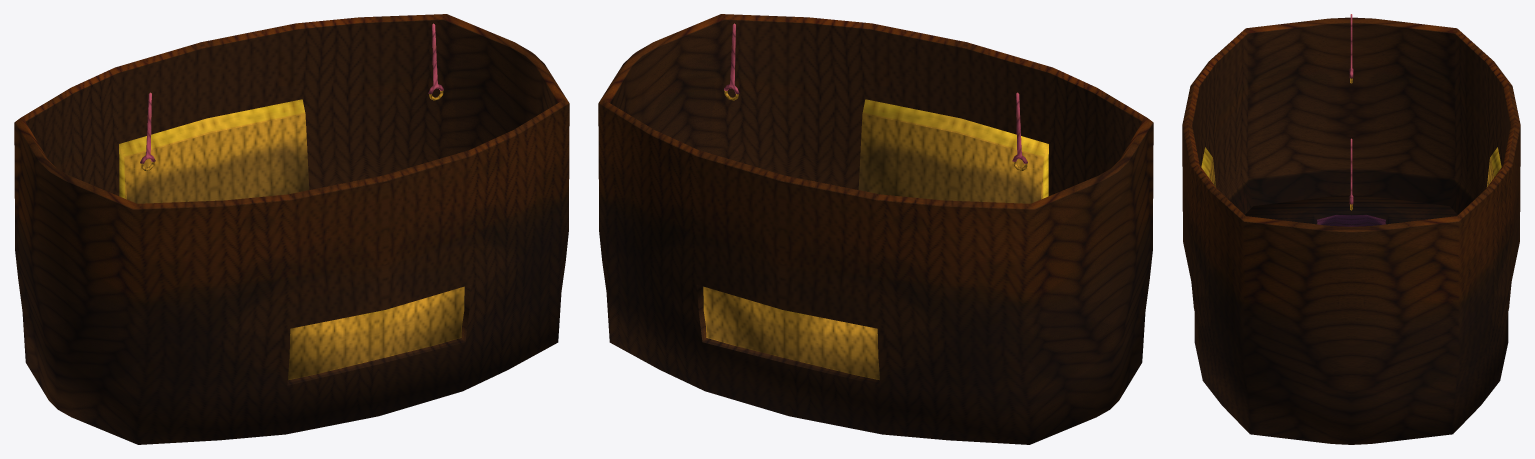
The model's file is NewBossroom_With_Collission.fbx.
3 renders of one model, left to right at view 1: azimuth 30°, elevation 25°; view 2: azimuth 150°, elevation 25°; view 3: azimuth 270°, elevation 25°, orthographic. The views are drawn at different scales.
Parts seen in each view (by area): view 1: Walls, Wall1, Wall2; view 2: Walls, Wall2, Wall1; view 3: Walls, Floor.
Part boxes in pixels (bbox=[...]): Walls: bbox=[14, 14, 569, 444]; Wall1: bbox=[119, 99, 309, 203]; Wall2: bbox=[288, 286, 464, 380]; Walls: bbox=[598, 14, 1153, 444]; Wall2: bbox=[858, 99, 1048, 203]; Wall1: bbox=[703, 286, 879, 380]; Walls: bbox=[1182, 17, 1520, 444]; Floor: bbox=[1245, 195, 1457, 226].
Size of what is drawn, in the model's own units: 3286 by 2036 by 2205.
1 material, 1 textured.
